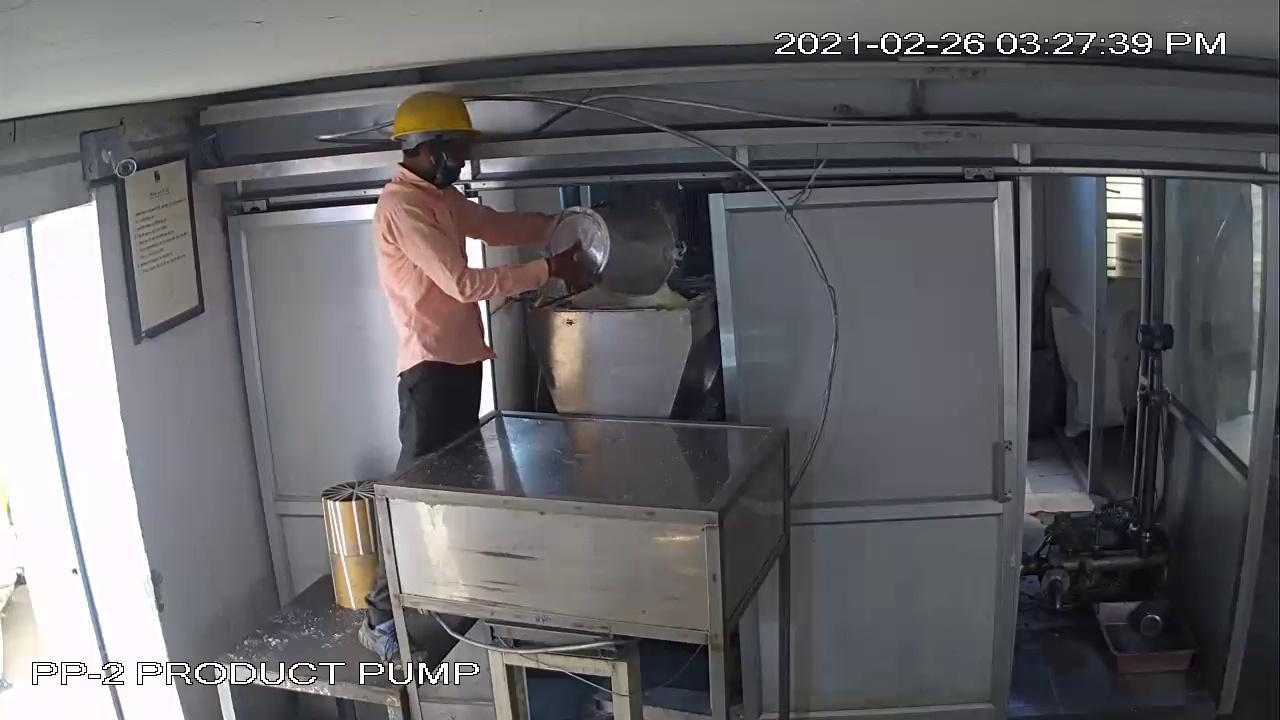helmet: (379, 89, 492, 152)
